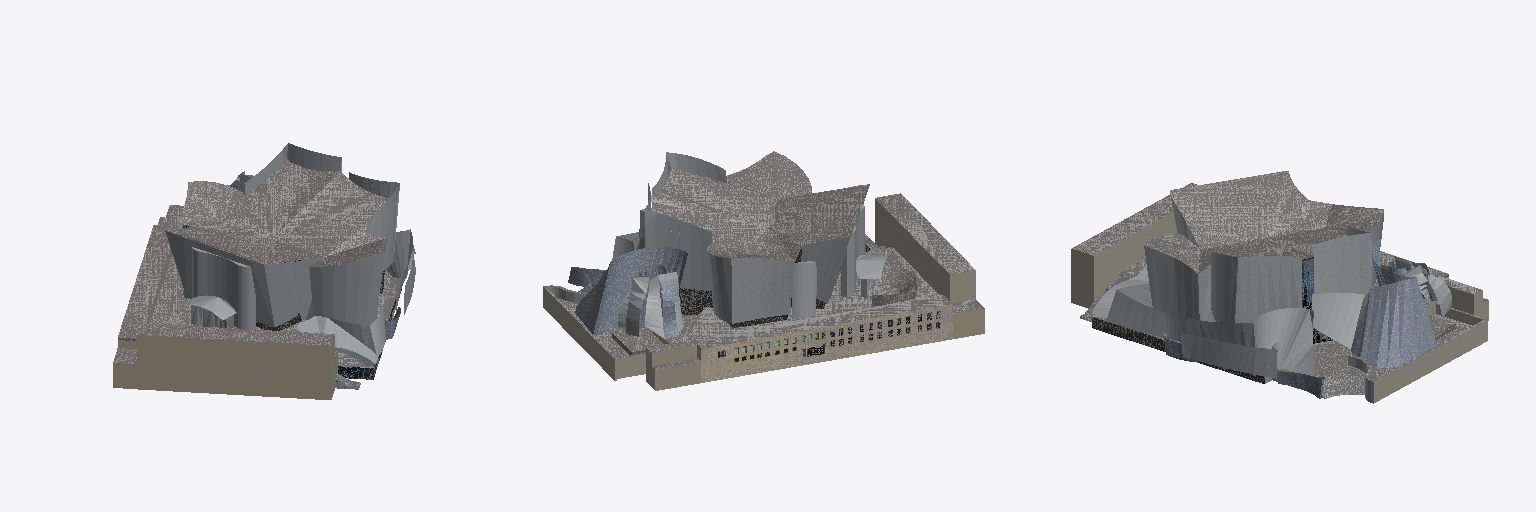
3 views of the same model, side by side, from view 1: azimuth 30°, elevation 25°; view 2: azimuth 150°, elevation 25°; view 3: azimuth 270°, elevation 25° (orthographic).
Visible parts, largest first — view 1: Mesh20 Group2 Model, Mesh1 Group2 Model, Mesh16 Group2 Model, Mesh21 Group2 Model, Mesh23 Group2 Model, Mesh19 Group2 Model, Mesh3 Group2 Model, Mesh4 Group2 Model, Mesh18 Group2 Model; view 2: Mesh1 Group2 Model, Mesh20 Group2 Model, Mesh6 Group2 Model, Mesh21 Group2 Model, Mesh9 Group2 Model, Mesh16 Group2 Model, Mesh2 Group2 Model, Mesh11 Group2 Model, Mesh8 Group2 Model, Mesh4 Group2 Model, Mesh12 Group2 Model, Mesh13 Group2 Model; view 3: Mesh20 Group2 Model, Mesh1 Group2 Model, Mesh6 Group2 Model, Mesh3 Group2 Model, Mesh21 Group2 Model, Mesh17 Group2 Model, Mesh19 Group2 Model, Mesh22 Group2 Model, Mesh10 Group2 Model, Mesh23 Group2 Model, Mesh2 Group2 Model.
Part boxes in pixels (x1,y1,x2,y2): Mesh20 Group2 Model: (165, 159, 399, 330); Mesh1 Group2 Model: (113, 205, 401, 399); Mesh16 Group2 Model: (192, 247, 255, 328); Mesh21 Group2 Model: (245, 143, 341, 193); Mesh23 Group2 Model: (296, 316, 377, 365); Mesh19 Group2 Model: (323, 294, 388, 356); Mesh3 Group2 Model: (386, 229, 412, 311); Mesh4 Group2 Model: (180, 295, 236, 319); Mesh18 Group2 Model: (191, 305, 233, 327); Mesh1 Group2 Model: (543, 193, 984, 390); Mesh20 Group2 Model: (646, 151, 869, 328); Mesh6 Group2 Model: (575, 247, 687, 334); Mesh21 Group2 Model: (645, 183, 711, 290); Mesh9 Group2 Model: (791, 261, 816, 317); Mesh16 Group2 Model: (841, 204, 864, 296); Mesh2 Group2 Model: (626, 277, 648, 336); Mesh11 Group2 Model: (645, 276, 664, 338); Mesh8 Group2 Model: (612, 327, 663, 354); Mesh4 Group2 Model: (856, 255, 887, 279); Mesh12 Group2 Model: (661, 286, 679, 338); Mesh13 Group2 Model: (658, 272, 683, 331); Mesh20 Group2 Model: (1144, 171, 1383, 344); Mesh1 Group2 Model: (1071, 183, 1488, 403); Mesh6 Group2 Model: (1351, 240, 1436, 367); Mesh3 Group2 Model: (1186, 308, 1314, 376); Mesh21 Group2 Model: (1314, 225, 1371, 298); Mesh17 Group2 Model: (1181, 333, 1279, 378); Mesh19 Group2 Model: (1106, 284, 1185, 342); Mesh22 Group2 Model: (1312, 293, 1363, 348); Mesh10 Group2 Model: (1278, 371, 1324, 398); Mesh23 Group2 Model: (1091, 264, 1148, 317); Mesh2 Group2 Model: (1417, 263, 1451, 318).
Size of the model in its own units: 153 by 49.57 by 153.
Materials: 23 (3 with a texture image).